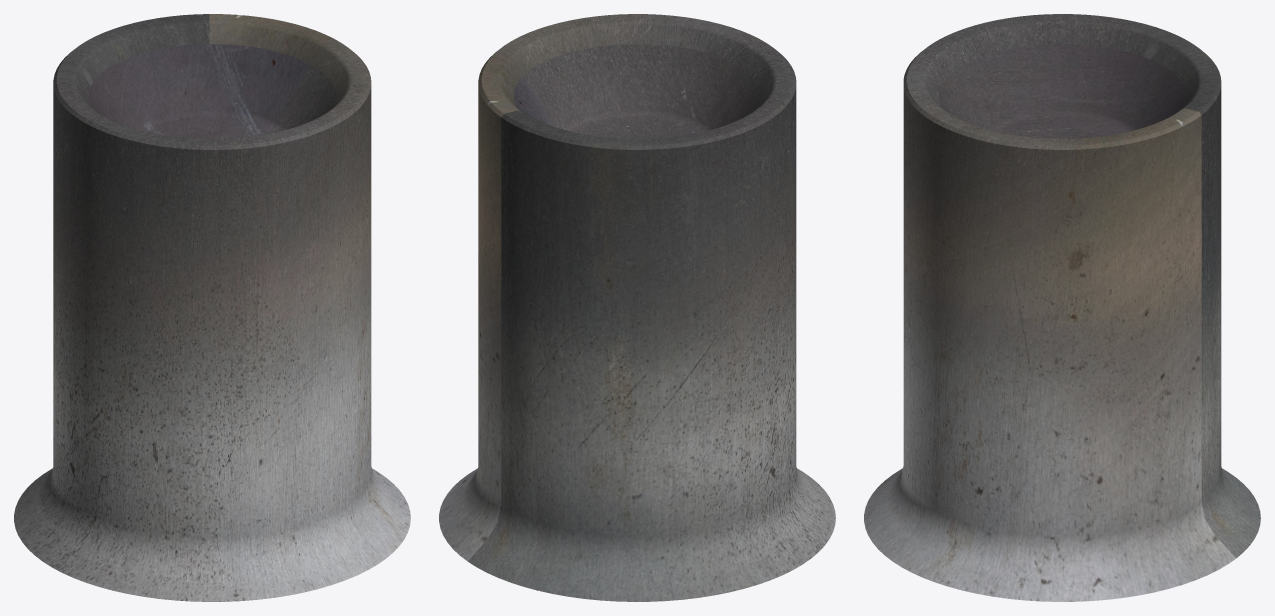
File: pedestal_uv_mapped.fbx
3 views of the same model, side by side, from view 1: azimuth 30°, elevation 25°; view 2: azimuth 150°, elevation 25°; view 3: azimuth 270°, elevation 25° (orthographic).
Visible parts, largest first — view 1: pedestal; view 2: pedestal; view 3: pedestal.
Part boxes in pixels (x1,y1,x2,y2): pedestal: [14, 14, 410, 601]; pedestal: [439, 14, 835, 601]; pedestal: [864, 14, 1260, 601].
Bounding box in the file's own units: 0.3649 × 0.4446 × 0.3648.
